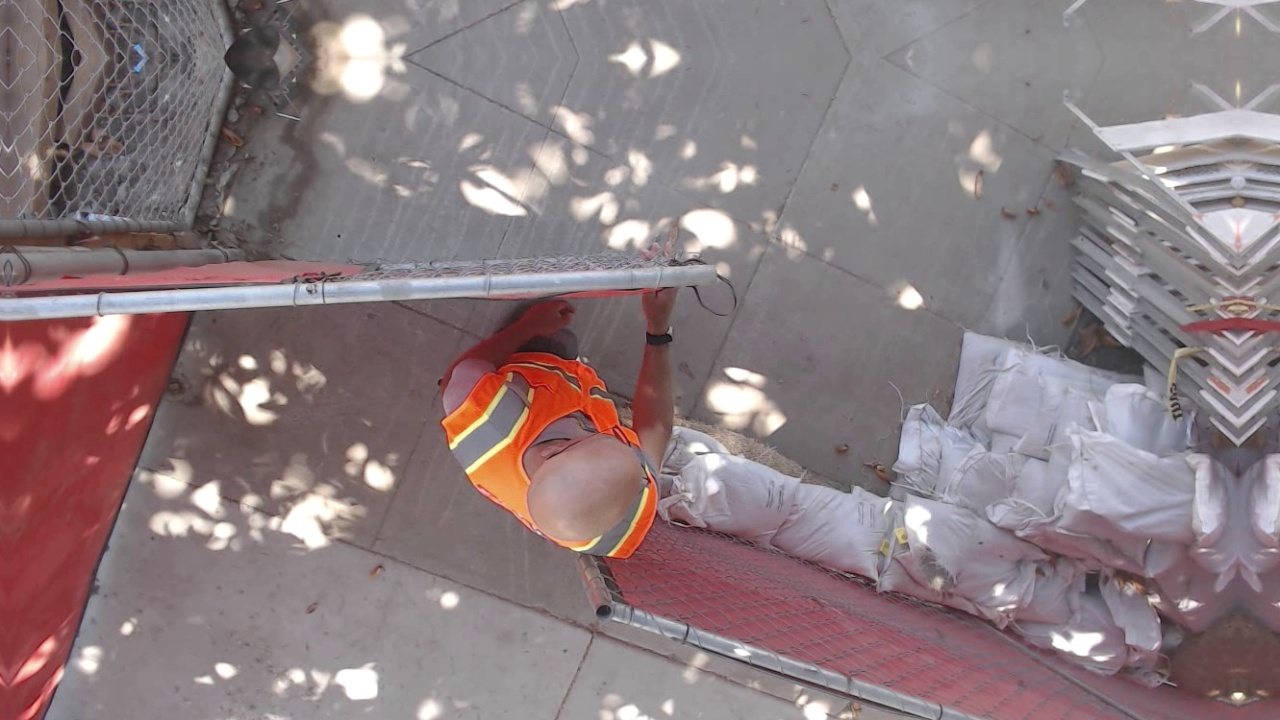person: (220, 130, 463, 447)
